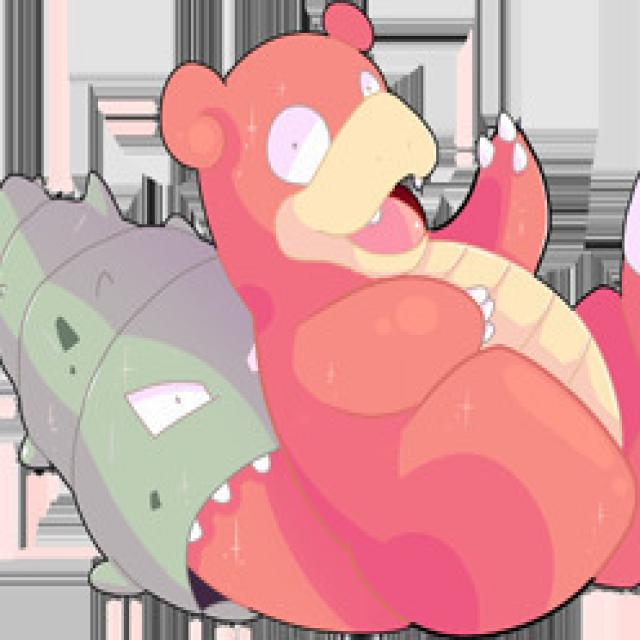Slowbro: (156, 16, 626, 618)
